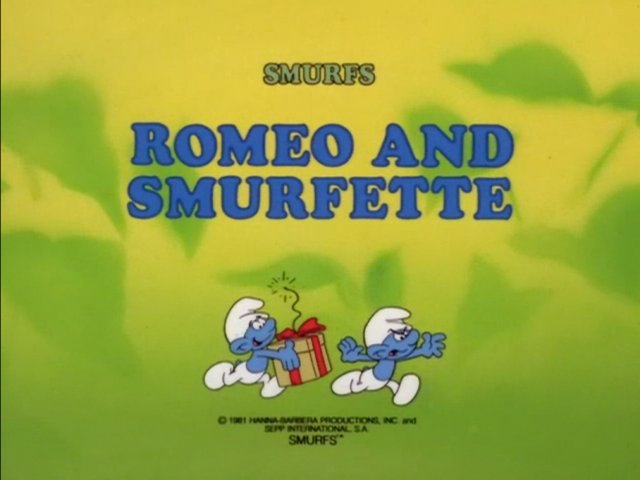smurf: (331, 306, 446, 408), (202, 295, 297, 401)
